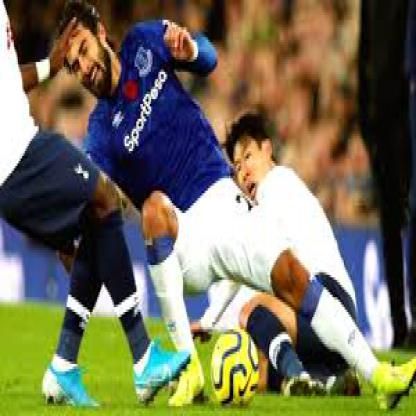Fall_Down: (61, 2, 414, 410)
